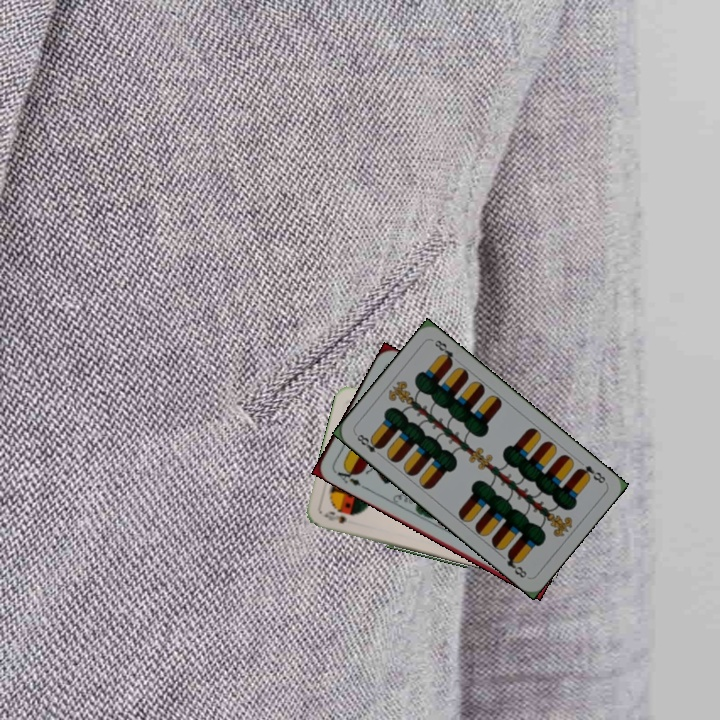E8: (351, 430, 385, 460), (573, 461, 608, 486)
EA: (330, 462, 363, 489)
SO: (320, 507, 349, 526)
